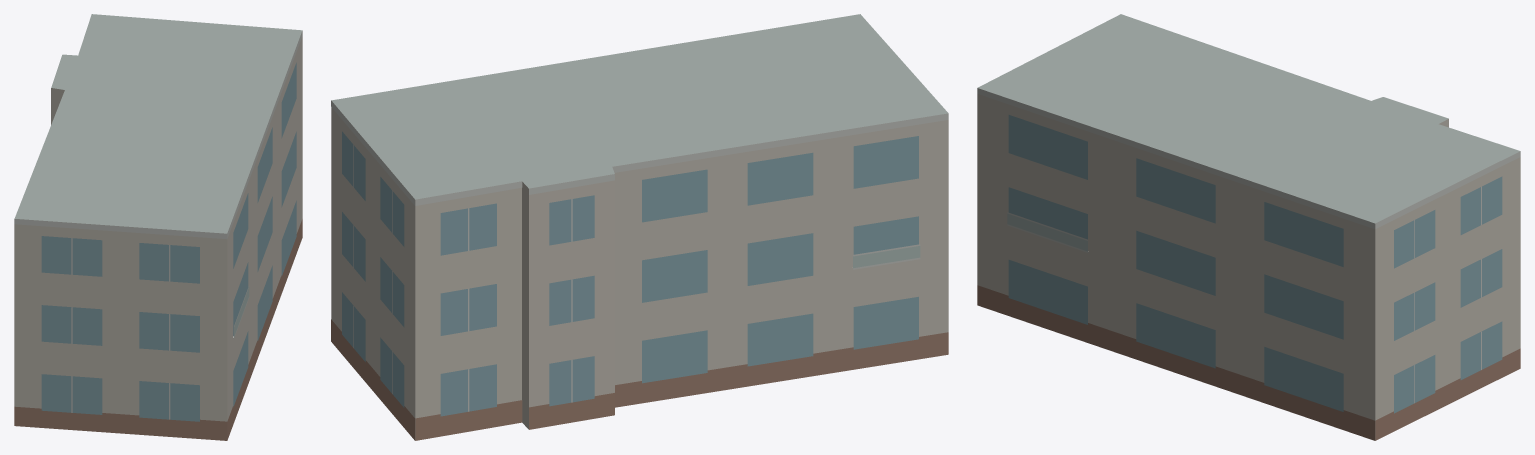
File: survey-upis-33030617.glb
3 renders of one model, left to right at view 1: azimuth 30°, elevation 25°; view 2: azimuth 150°, elevation 25°; view 3: azimuth 270°, elevation 25°, orthographic. The views are drawn at different scales.
Parts seen in each view (by area): view 1: survey-upis-33030617.tmp; view 2: survey-upis-33030617.tmp; view 3: survey-upis-33030617.tmp.
Part boxes in pixels (x1=…): survey-upis-33030617.tmp: x1=14, y1=14, x2=302, y2=440; survey-upis-33030617.tmp: x1=331, y1=14, x2=948, y2=440; survey-upis-33030617.tmp: x1=977, y1=14, x2=1520, y2=440.
Size of the model in its own units: 18.92 by 9.15 by 20.74.
